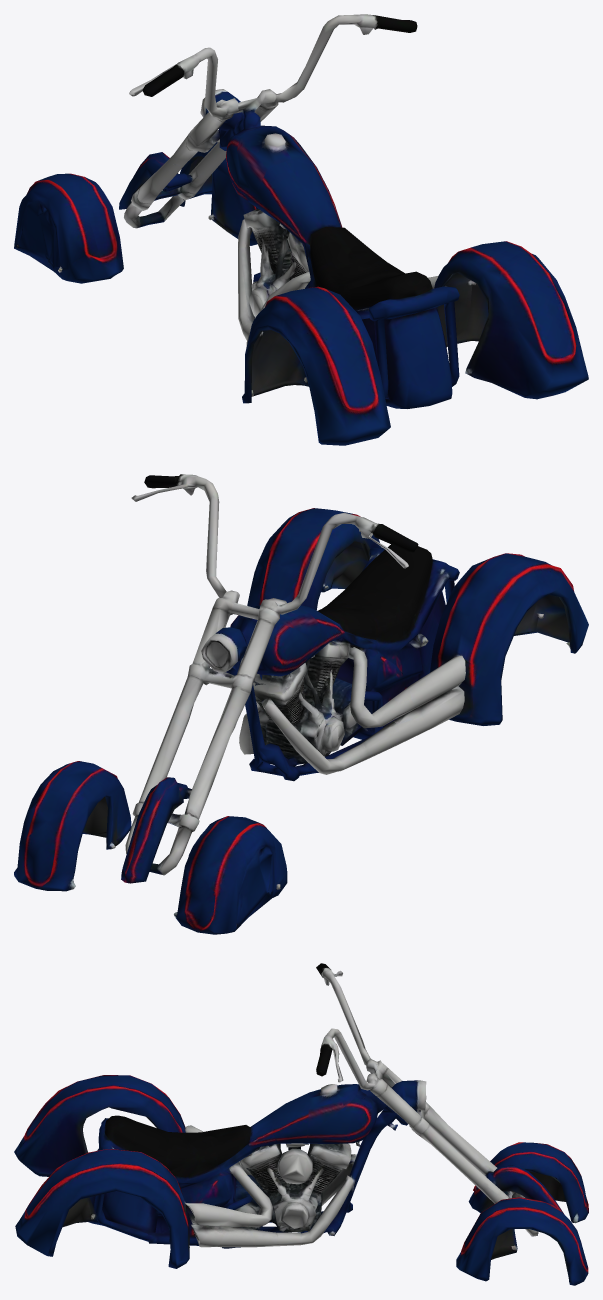
The model's file is body.glb.
The picture shows the model from 3 angles, top to bottom: view 1: azimuth 30°, elevation 25°; view 2: azimuth 150°, elevation 25°; view 3: azimuth 270°, elevation 25°; orthographic projection. The views are drawn at different scales.
Parts seen in each view (by area): view 1: tripo_node_cd2df8a3-162c-4f6f-a066-c3c457e10c79; view 2: tripo_node_cd2df8a3-162c-4f6f-a066-c3c457e10c79; view 3: tripo_node_cd2df8a3-162c-4f6f-a066-c3c457e10c79.
Part boxes in pixels (x1=…): tripo_node_cd2df8a3-162c-4f6f-a066-c3c457e10c79: x1=14, y1=14, x2=588, y2=445; tripo_node_cd2df8a3-162c-4f6f-a066-c3c457e10c79: x1=14, y1=474, x2=588, y2=934; tripo_node_cd2df8a3-162c-4f6f-a066-c3c457e10c79: x1=14, y1=963, x2=588, y2=1285.
Bounding box in the file's own units: 0.4515 × 0.4654 × 0.9986.
Materials: 1 (1 with a texture image).
